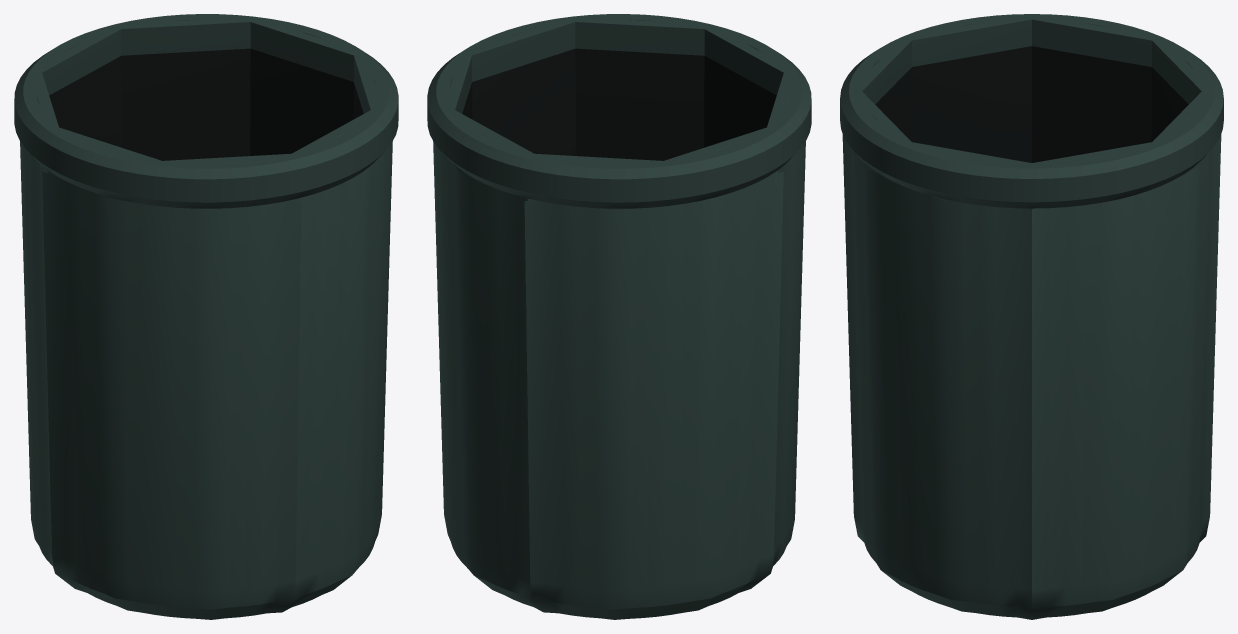
Rendered from papelera.glb.
The picture shows the model from 3 angles, left to right: view 1: azimuth 30°, elevation 25°; view 2: azimuth 150°, elevation 25°; view 3: azimuth 270°, elevation 25°; orthographic projection.
Parts seen in each view (by area): view 1: hd, lo; view 2: hd, lo; view 3: hd, lo.
Boxes of the visible parts, box(x1,y1,x2,y2) form: hd: box(14, 14, 398, 619); lo: box(30, 17, 382, 210); hd: box(427, 14, 811, 619); lo: box(443, 16, 795, 210); hd: box(840, 14, 1223, 619); lo: box(849, 14, 1214, 211).
Size of the model in its own units: 0.524 by 0.7 by 0.524.
